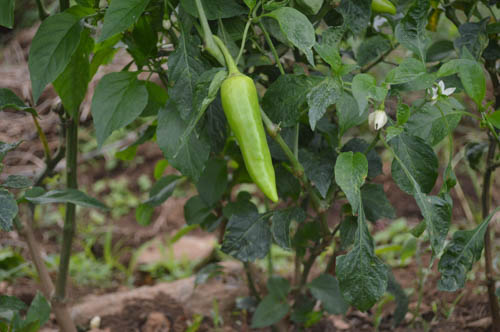ChiliPepper: (224, 76, 278, 202)
